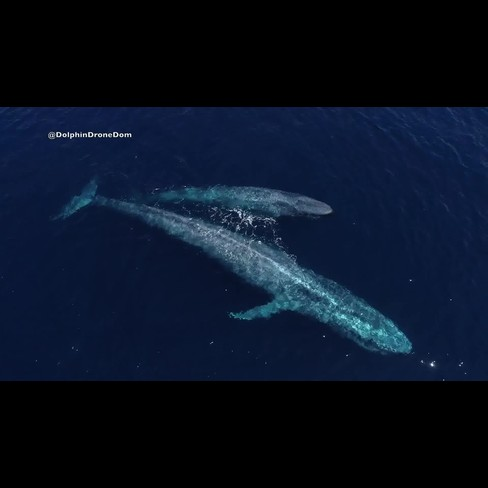bluewhale: (43, 174, 417, 363), (139, 179, 337, 228)
